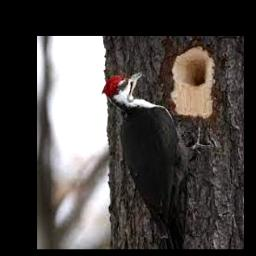Woodpecker: (102, 71, 210, 248)
